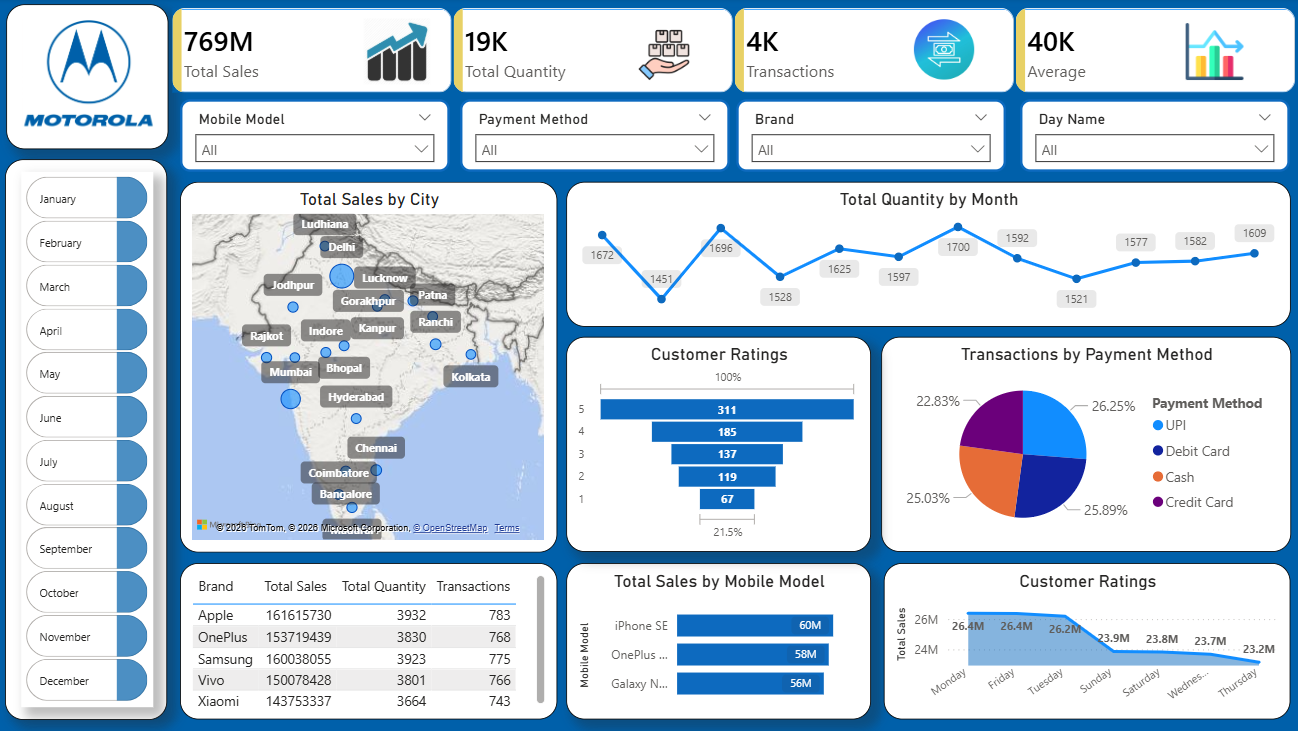

The dashboard page shown, as its layout file describes it:
{"tool":"powerbi","page":{"name":"Page 1","canvas":[1280,720],"ordinal":1},"visuals":[{"type":"shape","box":[5.6,5.6,159.2,142.3],"z":0},{"type":"image","box":[22.5,14.1,129.6,121.1],"z":1000},{"type":"shape","box":[5.5,157.8,159.2,550.3],"z":2000},{"type":"advancedSlicerVisual","fields":{"Values":["Sales_Data.Date.Variation.Date Hierarchy.Month"]},"box":[21.1,170.4,129.6,525.4],"z":3000},{"type":"cardVisual","fields":{"Data":["Sales_Data.Total Sales","Sales_Data.Total Quantity","Sales_Data.Transactions","Sales_Data.Average"]},"box":[164.7,5.5,1115.6,93.3],"z":4000},{"type":"image","box":[347.2,19.2,85.1,65.9],"z":5000},{"type":"image","box":[585.9,30.2,130.4,50.8],"z":6000},{"type":"image","box":[867.8,21.1,118,59],"z":7000},{"type":"image","box":[1137,25,109.8,56.3],"z":8000},{"type":"map","fields":{"Category":["Sales_Data.City"],"Size":["Sales_Data.Total Sales"]},"box":[177,179.8,370.5,363.6],"z":9000},{"type":"lineChart","fields":{"Y":["Sales_Data.Total Quantity"],"Category":["Sales_Data.Date.Variation.Date Hierarchy.Month","Sales_Data.Date.Variation.Date Hierarchy.Day"]},"box":[555.7,179.8,710.8,142.7],"z":10000},{"type":"clusteredBarChart","fields":{"Category":["Sales_Data.Mobile Model"],"Y":["Sales_Data.Total Sales"]},"box":[555.7,554.4,299.1,153.7],"z":11000},{"type":"pieChart","fields":{"Category":["Sales_Data.Payment Method"],"Y":["Sales_Data.Transactions"]},"box":[864.5,332.1,402.1,211.3],"z":12000},{"type":"funnel","title":"Customer Ratings ","fields":{"Category":["Sales_Data.Customer Ratings"],"Y":["CountNonNull(Sales_Data.Customer Ratings)"]},"box":[555.7,332.1,299.1,211.3],"z":13000},{"type":"areaChart","title":"Customer Ratings ","fields":{"Category":["Sales_Data.Day Name"],"Y":["Sales_Data.Total Sales"]},"box":[867.2,554.4,399.3,153.7],"z":14000},{"type":"tableEx","fields":{"Values":["Sales_Data.Brand","Sales_Data.Total Sales","Sales_Data.Total Quantity","Sales_Data.Transactions"]},"box":[177,554.4,370.5,153.7],"z":15000},{"type":"slicer","fields":{"Values":["Sales_Data.Mobile Model"]},"box":[177,98.8,264.8,71.4],"z":16000},{"type":"slicer","fields":{"Values":["Sales_Data.Payment Method"]},"box":[451.5,98.8,264.8,71.4],"z":17000},{"type":"slicer","fields":{"Values":["Sales_Data.Brand"]},"box":[723.2,98.8,264.8,71.4],"z":18000},{"type":"slicer","fields":{"Values":["Sales_Data.Day Name"]},"box":[1001.7,98.8,264.8,71.4],"z":19000}]}

Visuals, with their boxes in screenshot pixels (x1, y1, x2, y2), scaled from the page's 1280x720 canvas onto the 1298x731 screenshot:
shape: 6/6/167/150
image: 23/14/154/137
shape: 6/160/167/719
advancedSlicerVisual - Sales_Data.Date.Variation.Date Hierarchy.Month: 21/173/153/706
cardVisual - Sales_Data.Total Sales x Sales_Data.Total Quantity: 167/6/1297/100
image: 352/19/438/86
image: 594/31/726/82
image: 880/21/1000/81
image: 1153/25/1264/83
map - Sales_Data.City x Sales_Data.Total Sales: 179/183/555/552
lineChart - Sales_Data.Total Quantity x Sales_Data.Date.Variation.Date Hierarchy.Month: 564/183/1284/327
clusteredBarChart - Sales_Data.Mobile Model x Sales_Data.Total Sales: 564/563/867/719
pieChart - Sales_Data.Payment Method x Sales_Data.Transactions: 877/337/1284/552
"Customer Ratings " funnel: 564/337/867/552
"Customer Ratings " areaChart: 879/563/1284/719
tableEx - Sales_Data.Brand x Sales_Data.Total Sales: 179/563/555/719
slicer - Sales_Data.Mobile Model: 179/100/448/173
slicer - Sales_Data.Payment Method: 458/100/726/173
slicer - Sales_Data.Brand: 733/100/1002/173
slicer - Sales_Data.Day Name: 1016/100/1284/173
